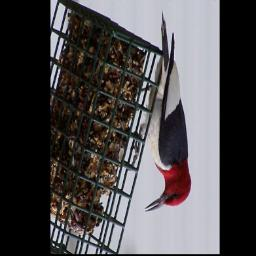Woodpecker: (131, 11, 192, 212)
